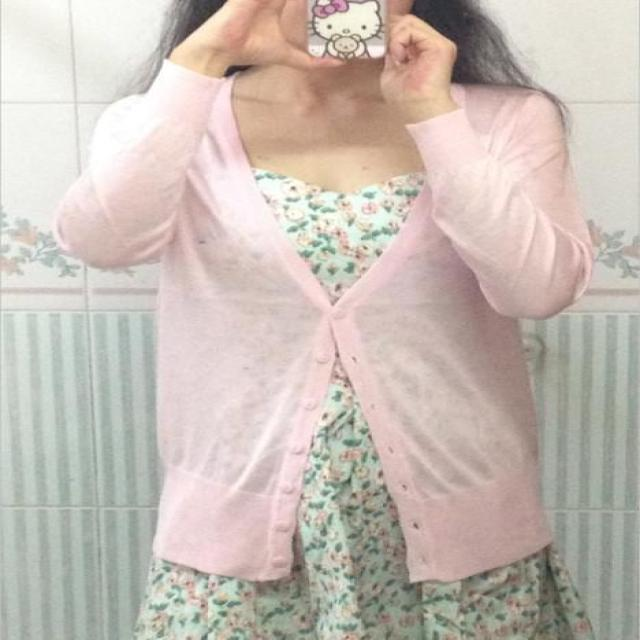long sleeve outwear: (157, 76, 312, 576)
vest dress: (135, 90, 595, 637)
